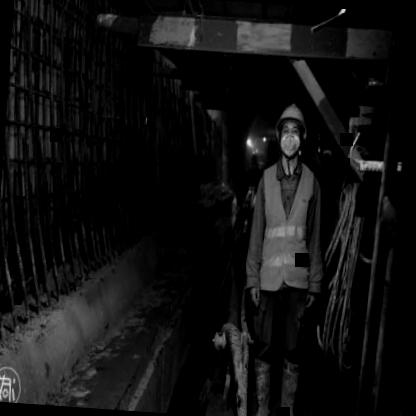helmet: (271, 100, 308, 165)
